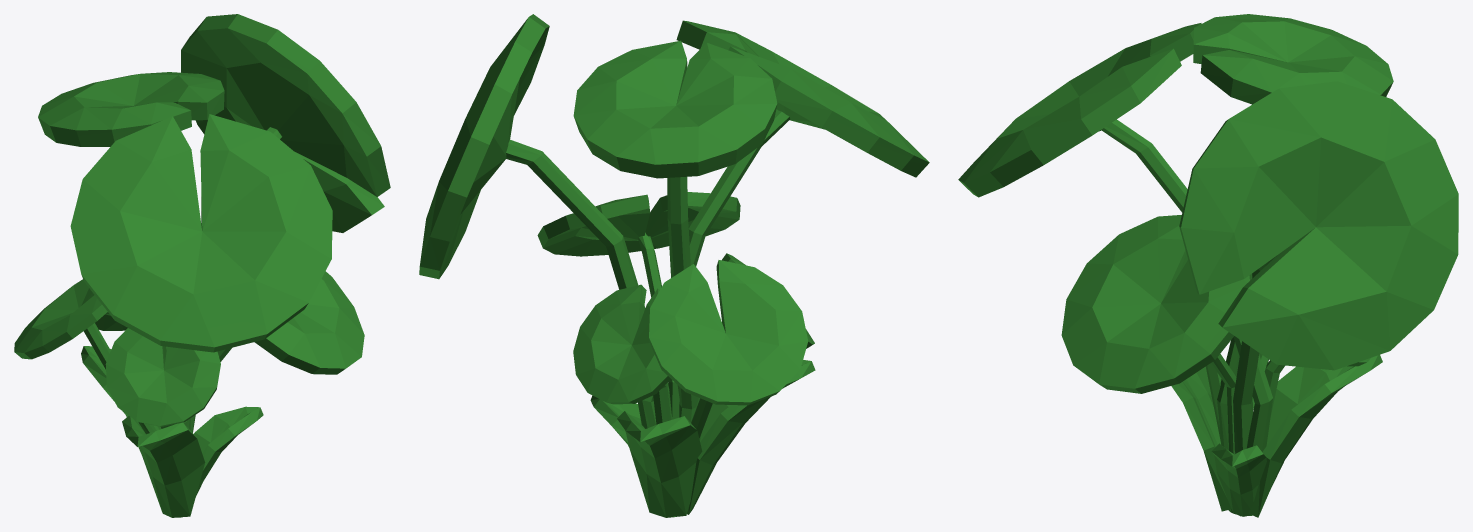
Rendered from Plant31.fbx.
The picture shows the model from 3 angles, left to right: view 1: azimuth 30°, elevation 25°; view 2: azimuth 150°, elevation 25°; view 3: azimuth 270°, elevation 25°; orthographic projection. The views are drawn at different scales.
Visible parts, largest first — view 1: Plant.045_Material.001_0; view 2: Plant.045_Material.001_0; view 3: Plant.045_Material.001_0.
Part boxes in pixels (left/top/right/bottom): Plant.045_Material.001_0: left=14, top=14, right=390, bottom=517; Plant.045_Material.001_0: left=419, top=14, right=929, bottom=517; Plant.045_Material.001_0: left=958, top=14, right=1458, bottom=517.
Bounding box in the file's own units: 585 × 692 × 645.
